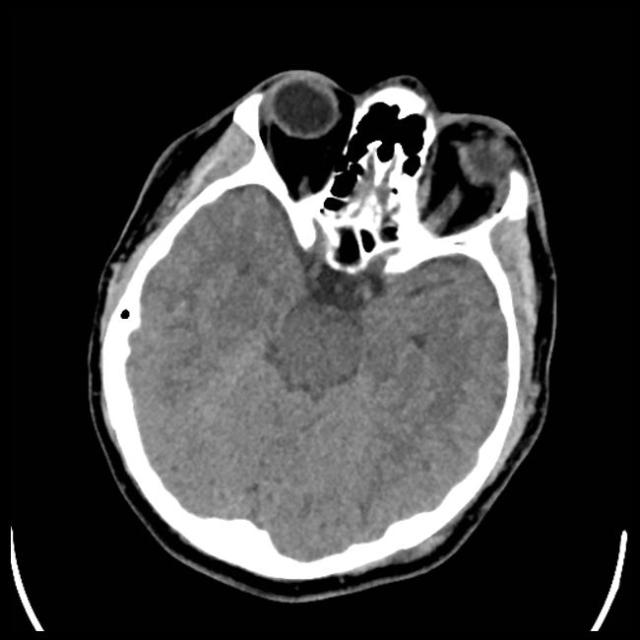lesion: (86, 67, 560, 595)
